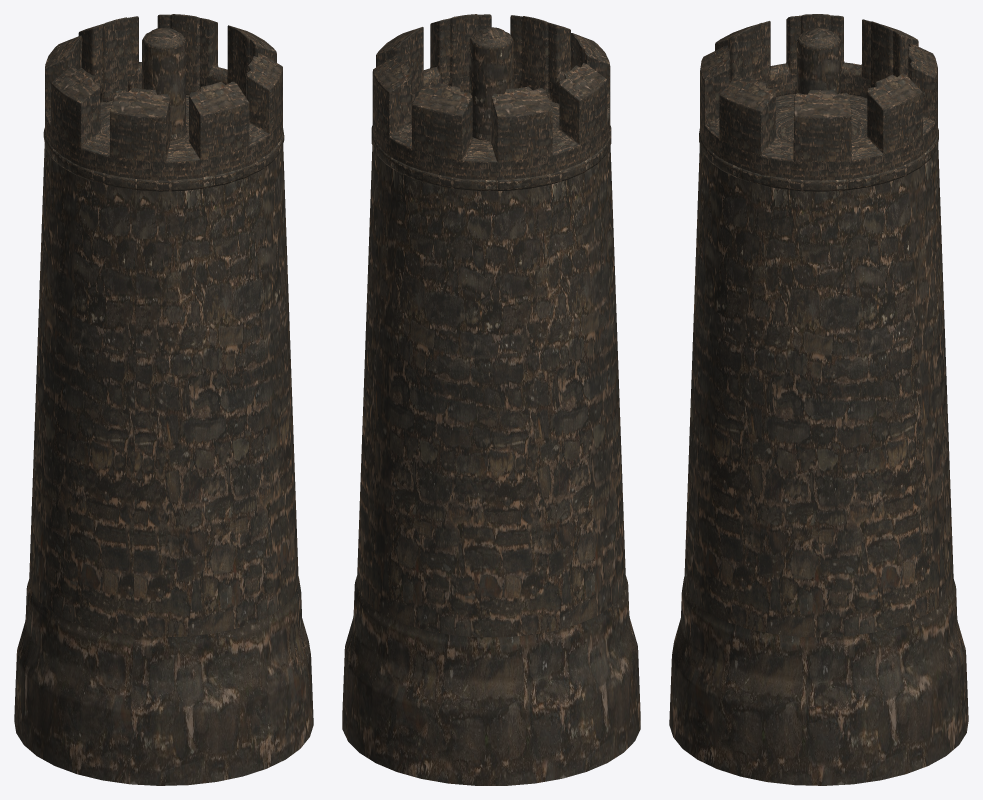
File: block_14.glb
3 views of the same model, side by side, from view 1: azimuth 30°, elevation 25°; view 2: azimuth 150°, elevation 25°; view 3: azimuth 270°, elevation 25° (orthographic).
Parts seen in each view (by area): view 1: block_14; view 2: block_14; view 3: block_14.
Part boxes in pixels (box(x1,y1,x2,y2)): block_14: box(14, 14, 313, 785); block_14: box(342, 14, 640, 785); block_14: box(669, 14, 968, 785).
Size of the model in its own units: 4.75 by 12.15 by 4.75.
Materials: 2 (2 with a texture image).
